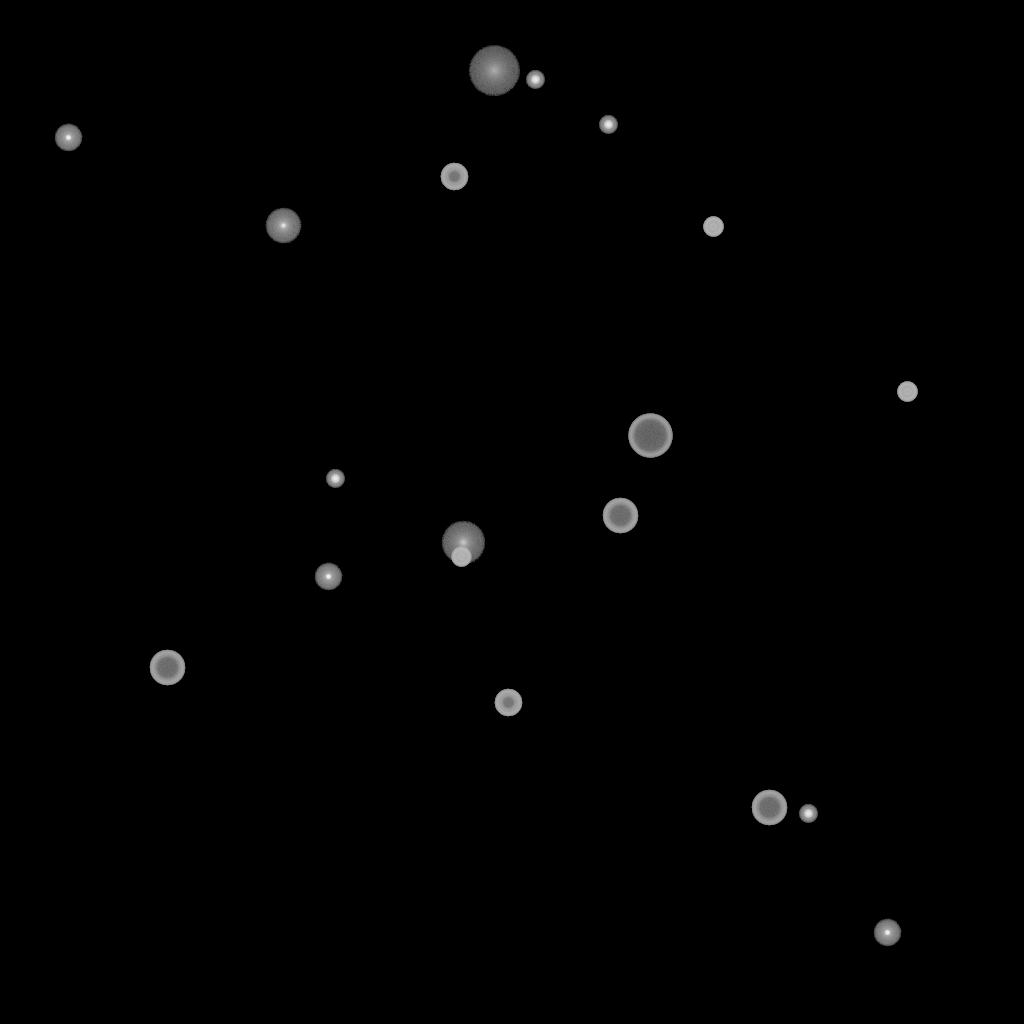depth:-10: (314, 563, 342, 591), (873, 919, 901, 947), (54, 124, 82, 152)
depth:-20: (799, 805, 817, 823), (599, 116, 617, 134), (526, 71, 544, 89), (326, 470, 344, 488)
depth:-40: (897, 382, 917, 402), (451, 547, 471, 567), (703, 217, 723, 237)
depth:-50: (494, 689, 522, 717), (440, 163, 468, 191)
depth:-60: (602, 498, 638, 534), (149, 650, 185, 686), (751, 790, 787, 826)
depth:-70: (628, 414, 672, 458)
depth:0: (265, 208, 301, 244)
depth:10: (441, 521, 485, 565)
depth:20: (468, 46, 520, 96)
